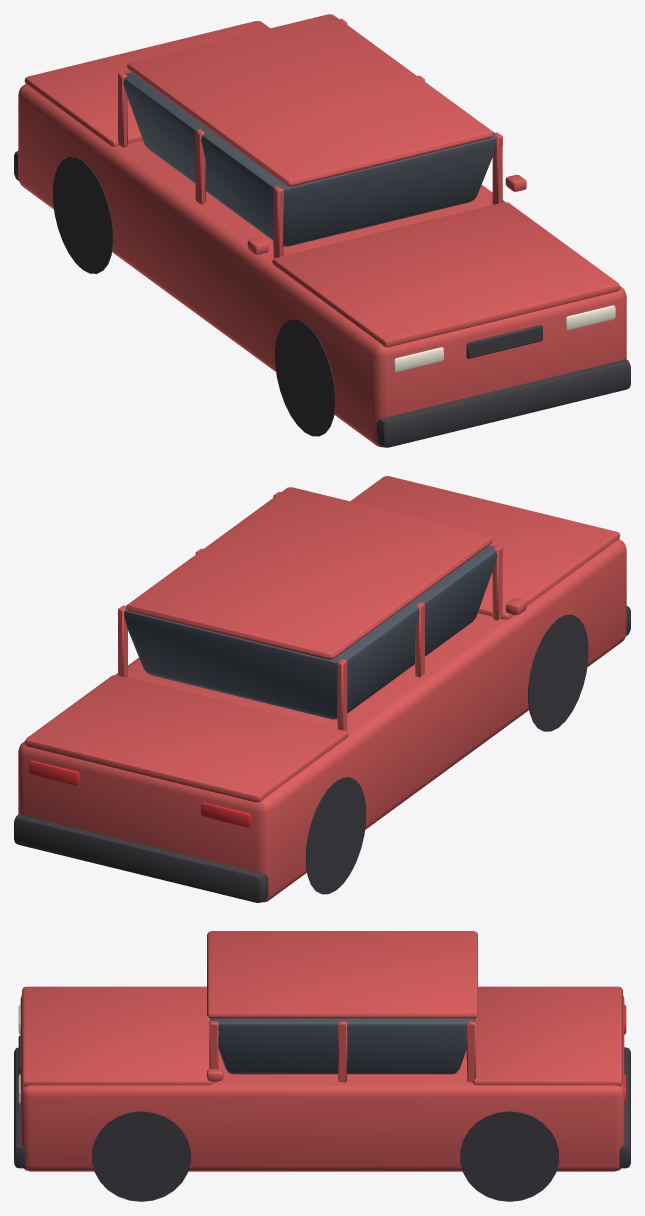
The model's file is car_sedan.glb.
3 views of the same model, one above another, from view 1: azimuth 30°, elevation 25°; view 2: azimuth 150°, elevation 25°; view 3: azimuth 270°, elevation 25° (orthographic). The views are drawn at different scales.
Parts seen in each view (by area): view 1: car_sedan; view 2: car_sedan; view 3: car_sedan.
Boxes of the visible parts, <box> form: car_sedan: <box>14,14,630,447</box>; car_sedan: <box>14,476,630,902</box>; car_sedan: <box>14,931,630,1201</box>.
Bounding box in the file's own units: 1.94 × 1.47 × 4.6.
